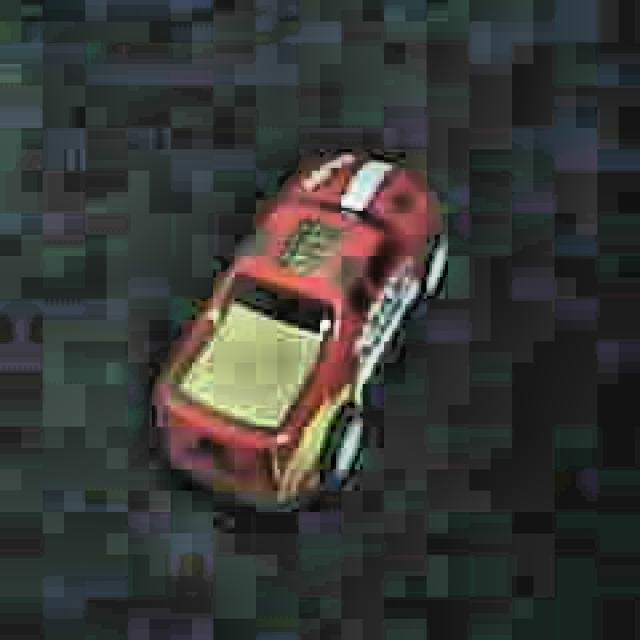car: (150, 147, 455, 525)
